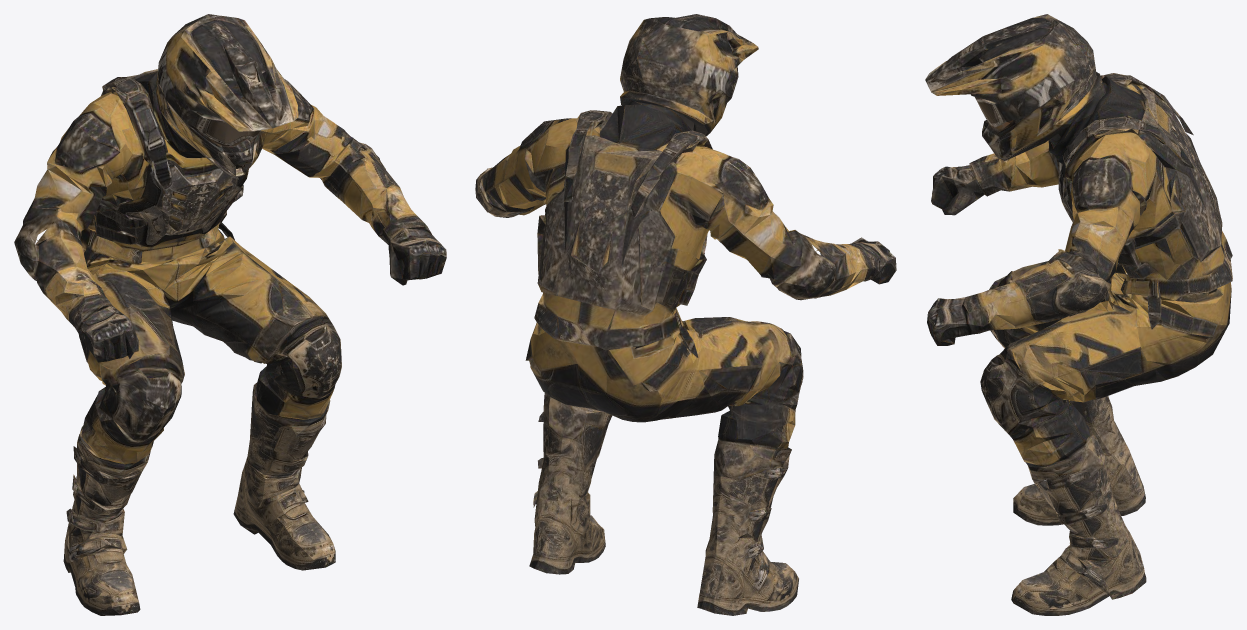
Rendered from hornet_motocross_rider.glb.
3 views of the same model, side by side, from view 1: azimuth 30°, elevation 25°; view 2: azimuth 150°, elevation 25°; view 3: azimuth 270°, elevation 25° (orthographic). The views are drawn at different scales.
Size of the model in its own units: 1.26 by 1.9 by 0.9811.
1 material, 1 textured.
